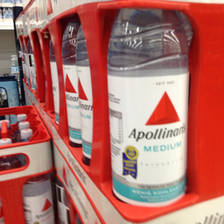water: (107, 7, 189, 208)
